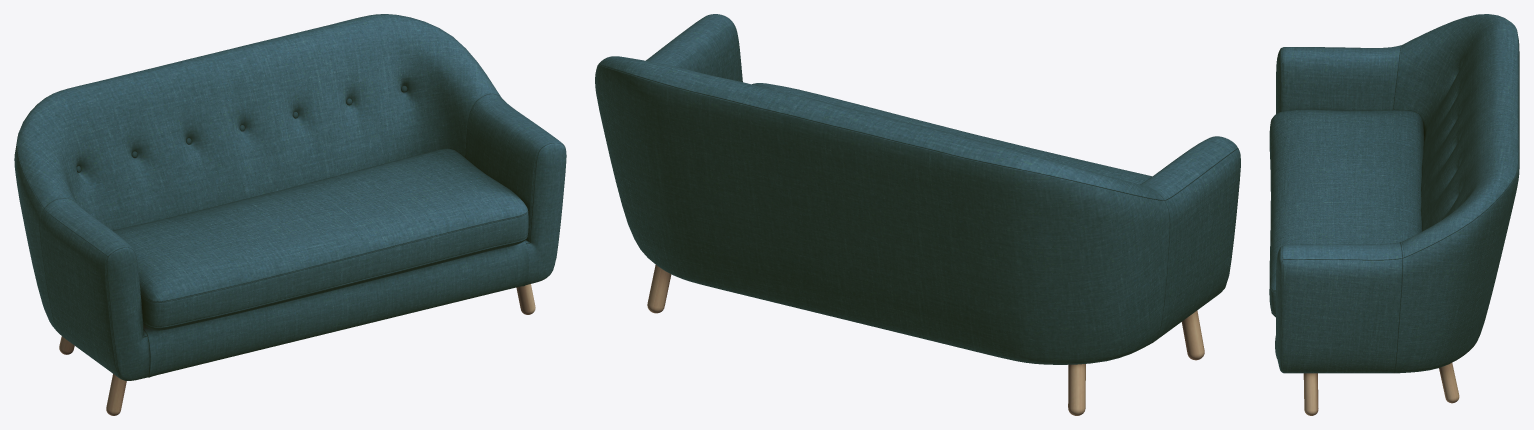
Rendered from lottie_3_seater_sofa_harbour_blue.glb.
3 views of the same model, side by side, from view 1: azimuth 30°, elevation 25°; view 2: azimuth 150°, elevation 25°; view 3: azimuth 270°, elevation 25° (orthographic). The views are drawn at different scales.
Parts seen in each view (by area): view 1: Lottie_3_Seater_Sofa; view 2: Lottie_3_Seater_Sofa; view 3: Lottie_3_Seater_Sofa.
Part boxes in pixels (x1,y1,x2,y2): Lottie_3_Seater_Sofa: [14, 14, 566, 415]; Lottie_3_Seater_Sofa: [595, 14, 1240, 415]; Lottie_3_Seater_Sofa: [1269, 14, 1519, 415].
Size of what is drawn, in the model's own units: 167 by 80.78 by 81.45.
2 materials, 2 textured.
